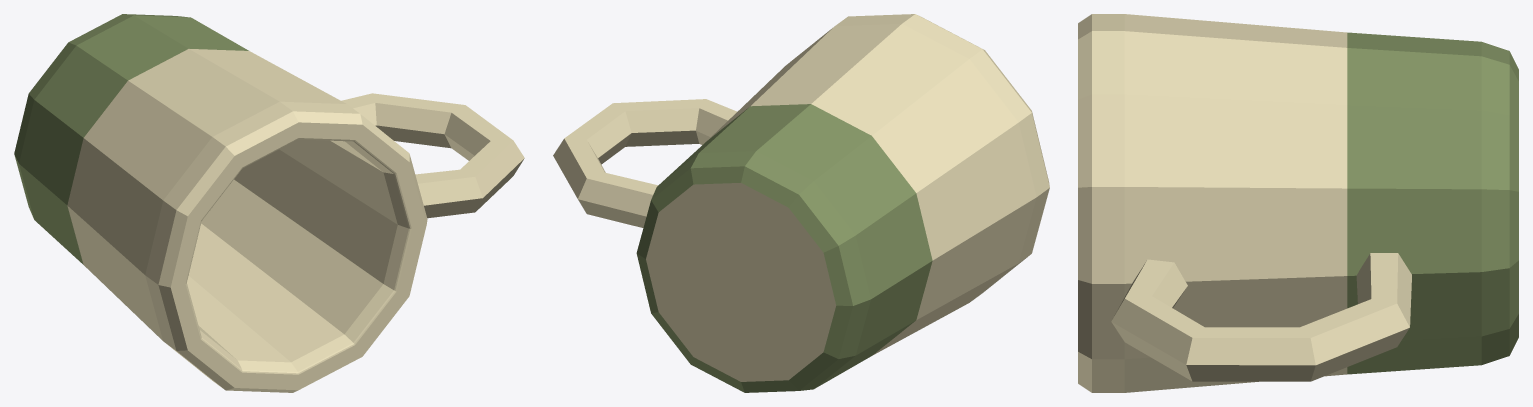
File: mug.glb
3 views of the same model, side by side, from view 1: azimuth 30°, elevation 25°; view 2: azimuth 150°, elevation 25°; view 3: azimuth 270°, elevation 25° (orthographic). The views are drawn at different scales.
Parts seen in each view (by area): view 1: mug; view 2: mug; view 3: mug.
Boxes of the visible parts, x1,y1,x2,y2 form: mug: (14, 14, 524, 392); mug: (553, 14, 1049, 392); mug: (1078, 14, 1518, 392).
Size of the model in its own units: 0.1236 by 0.082 by 0.095.
